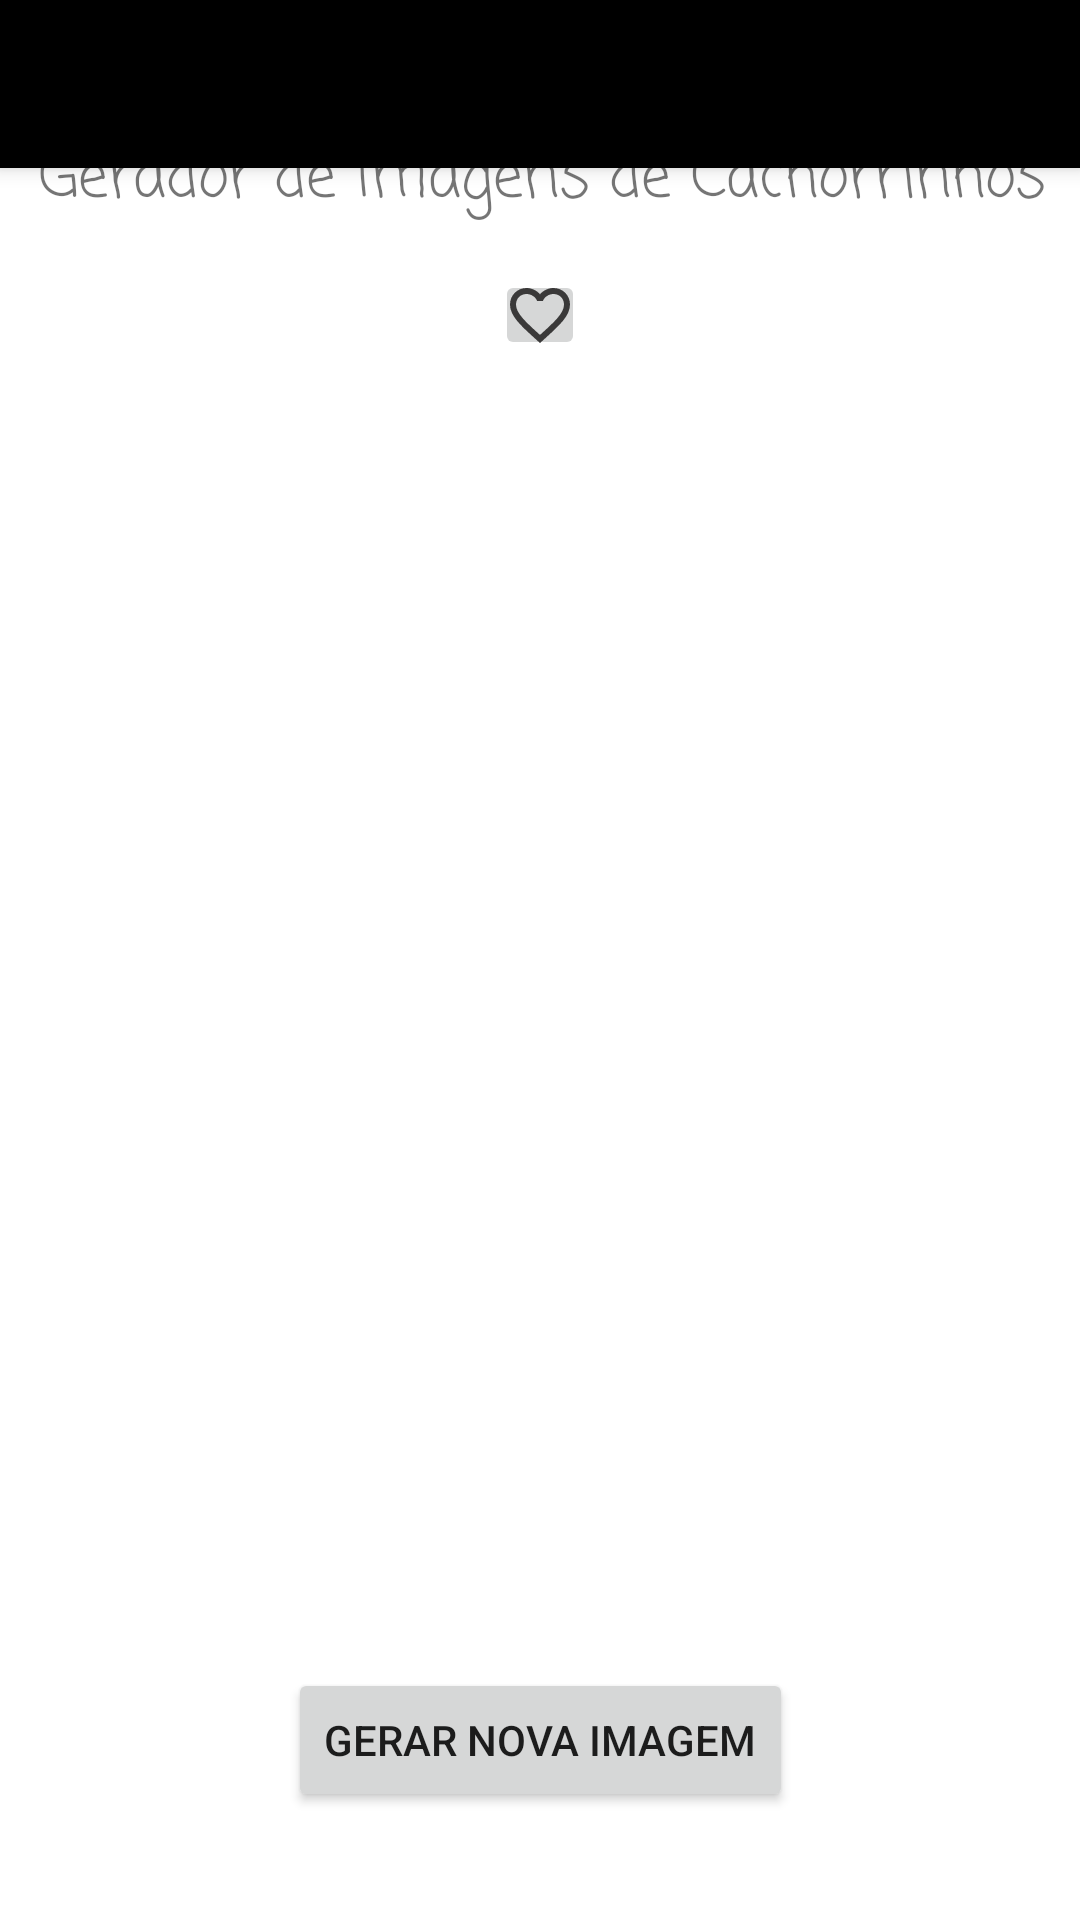

Where icons sit on this 1080px×1920px app screen, as (x1, y1, x2, y2):
favorite unclicked: (507, 288, 573, 343)
